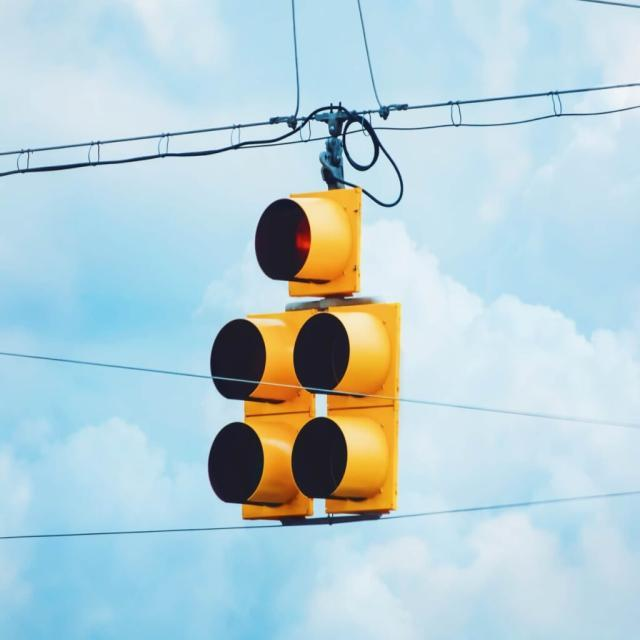suv: (208, 182, 402, 520)
